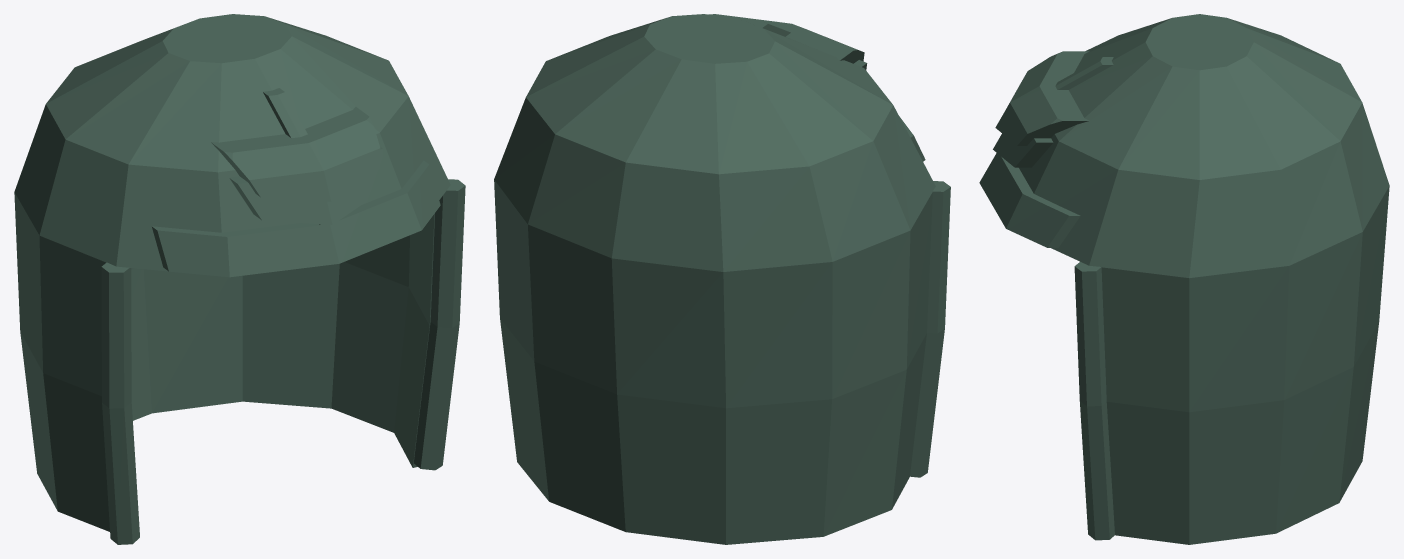
Rendered from leather_head-male-scaledHide.glb.
3 views of the same model, side by side, from view 1: azimuth 30°, elevation 25°; view 2: azimuth 150°, elevation 25°; view 3: azimuth 270°, elevation 25° (orthographic). The views are drawn at different scales.
Parts seen in each view (by area): view 1: leather joined crown and nape guard, Lapped hide reinforcement leather joined crown and nape guar (×2), Fitted brow binding, Bound face opening -1, Bound face opening 1, Cap crown sewn seam; view 2: leather joined crown and nape guard, Bound face opening -1, Lapped hide reinforcement leather joined crown and nape guar; view 3: leather joined crown and nape guard, Bound face opening 1, Lapped hide reinforcement leather joined crown and nape guar (×2), Fitted brow binding, Cap crown sewn seam.
Boxes of the visible parts, bbox=[...] form: leather joined crown and nape guard: bbox=[14, 14, 450, 531]; Lapped hide reinforcement leather joined crown and nape guar (×2): bbox=[211, 107, 382, 224]; Fitted brow binding: bbox=[152, 160, 440, 277]; Bound face opening -1: bbox=[101, 262, 139, 544]; Bound face opening 1: bbox=[414, 179, 465, 470]; Cap crown sewn seam: bbox=[263, 88, 324, 225]; leather joined crown and nape guard: bbox=[494, 14, 935, 544]; Bound face opening -1: bbox=[910, 181, 950, 477]; Lapped hide reinforcement leather joined crown and nape guar: bbox=[708, 14, 864, 63]; leather joined crown and nape guard: bbox=[1019, 14, 1389, 544]; Bound face opening 1: bbox=[1074, 261, 1114, 540]; Lapped hide reinforcement leather joined crown and nape guar (×2): bbox=[993, 51, 1089, 167]; Fitted brow binding: bbox=[979, 153, 1080, 247]; Cap crown sewn seam: bbox=[1055, 57, 1113, 89].
Size of the model in its own units: 1.05 by 1.12 by 0.9851.
